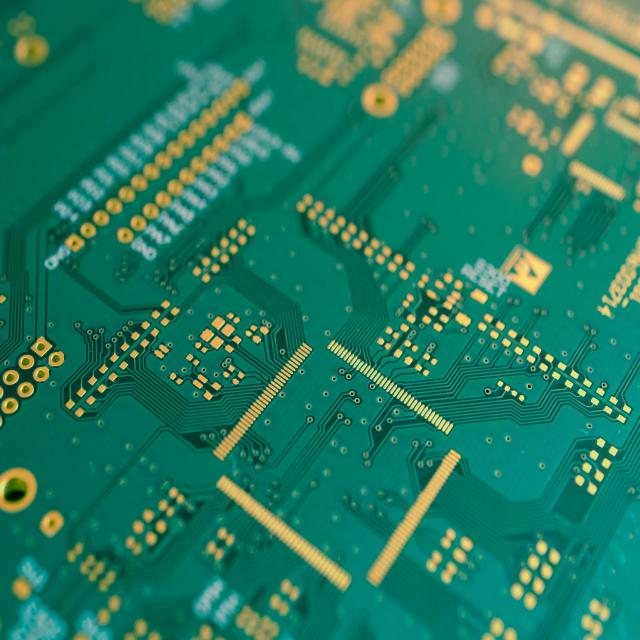pcb: (1, 1, 638, 639), (42, 55, 300, 315), (59, 263, 311, 457)
